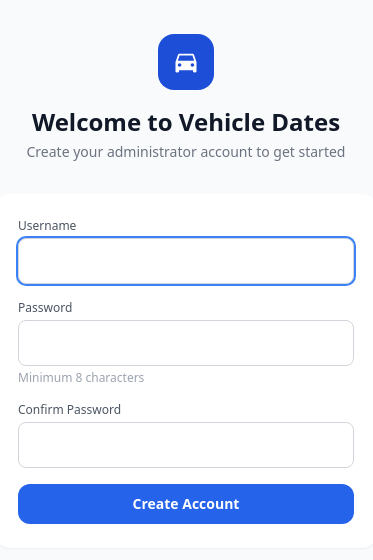
Test case: SetupPage › shows an error when passwords do not match
Step 1. Type "admin" into the field labelled "Username" → (186, 261), box left=18, top=238, right=354, bottom=284
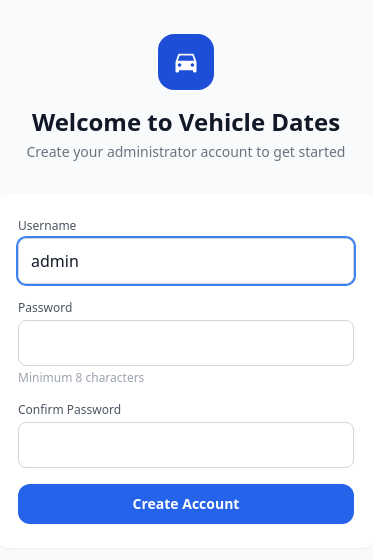
Step 2. Type "password123" into the password field labelled "Password" → (186, 343), box left=18, top=320, right=354, bottom=366
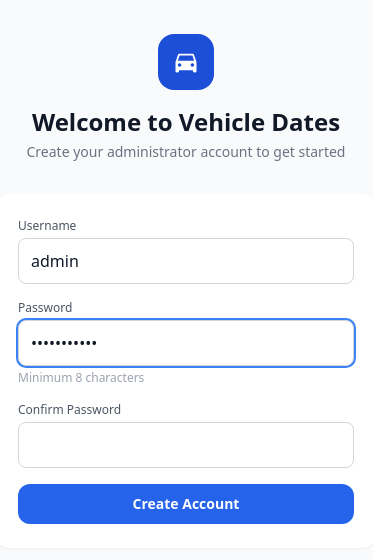
Step 3. Type "different456" into the password field labelled "Confirm Password" → (186, 445), box left=18, top=422, right=354, bottom=468
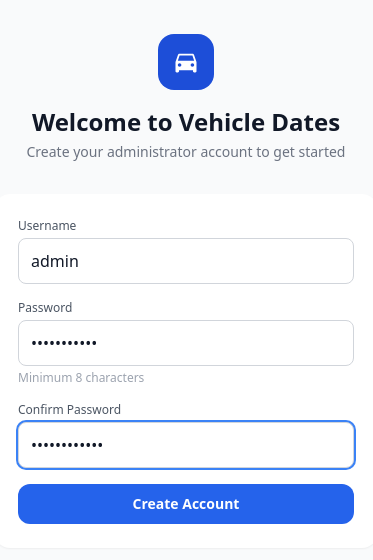
Step 4. Click the button "Create Account" → (186, 504), box left=18, top=484, right=354, bottom=524
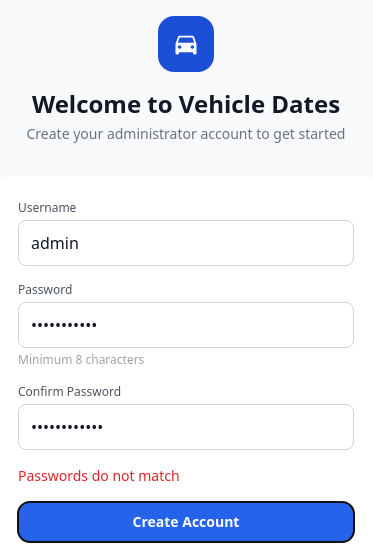
Expected: the text "Passwords do not match" is shown, left=18, top=466, right=180, bottom=485
